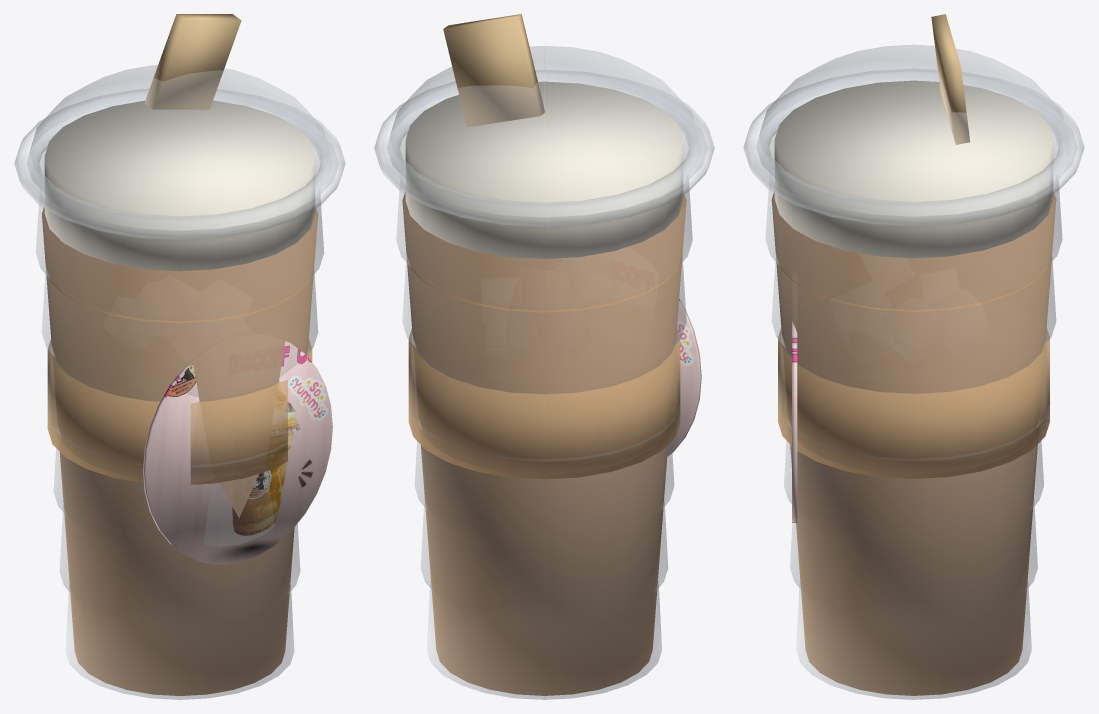
File: prop_biscoff_coffee.glb
3 renders of one model, left to right at view 1: azimuth 30°, elevation 25°; view 2: azimuth 150°, elevation 25°; view 3: azimuth 270°, elevation 25°, orthographic. The views are drawn at different scales.
Parts seen in each view (by area): view 1: prop_biscoff_coffee; view 2: prop_biscoff_coffee; view 3: prop_biscoff_coffee.
Part boxes in pixels (bbox=[...]): prop_biscoff_coffee: bbox=[14, 14, 345, 699]; prop_biscoff_coffee: bbox=[374, 14, 714, 699]; prop_biscoff_coffee: bbox=[743, 14, 1084, 699].
Bounding box in the file's own units: 0.0927 × 0.1924 × 0.0927.
Materials: 7 (1 with a texture image).
